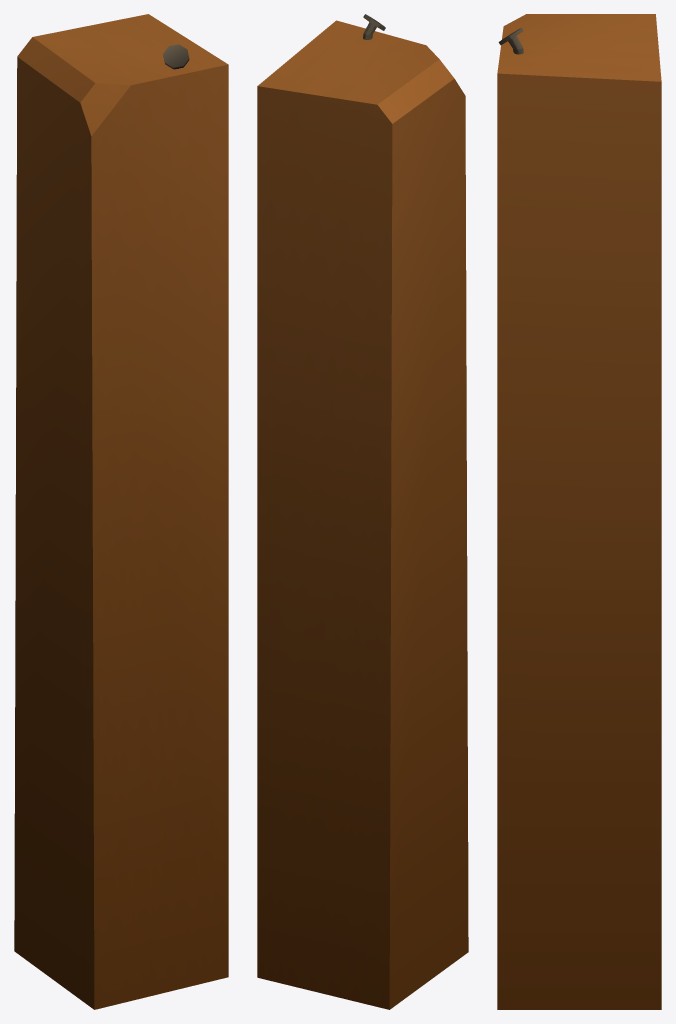
Rendered from Fence_Post_B.fbx.
The picture shows the model from 3 angles, left to right: view 1: azimuth 30°, elevation 25°; view 2: azimuth 150°, elevation 25°; view 3: azimuth 270°, elevation 25°; orthographic projection. The views are drawn at different scales.
Parts seen in each view (by area): view 1: Fence_Post_B; view 2: Fence_Post_B; view 3: Fence_Post_B.
Boxes of the visible parts, bbox=[...] form: Fence_Post_B: bbox=[14, 14, 228, 1009]; Fence_Post_B: bbox=[257, 14, 468, 1009]; Fence_Post_B: bbox=[497, 14, 661, 1009].
Size of the model in its own units: 19.65 by 131 by 20.3.
